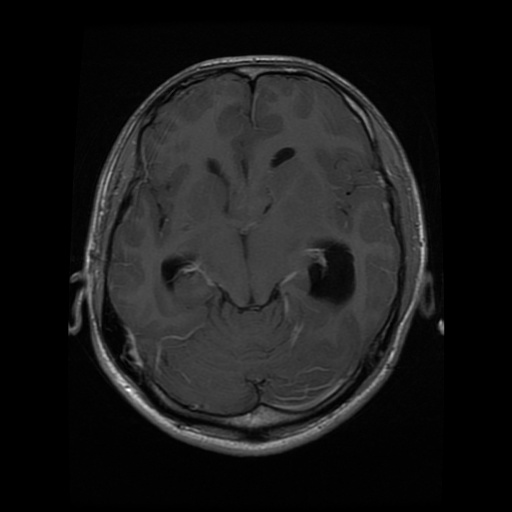glioma: (308, 241, 359, 302)
